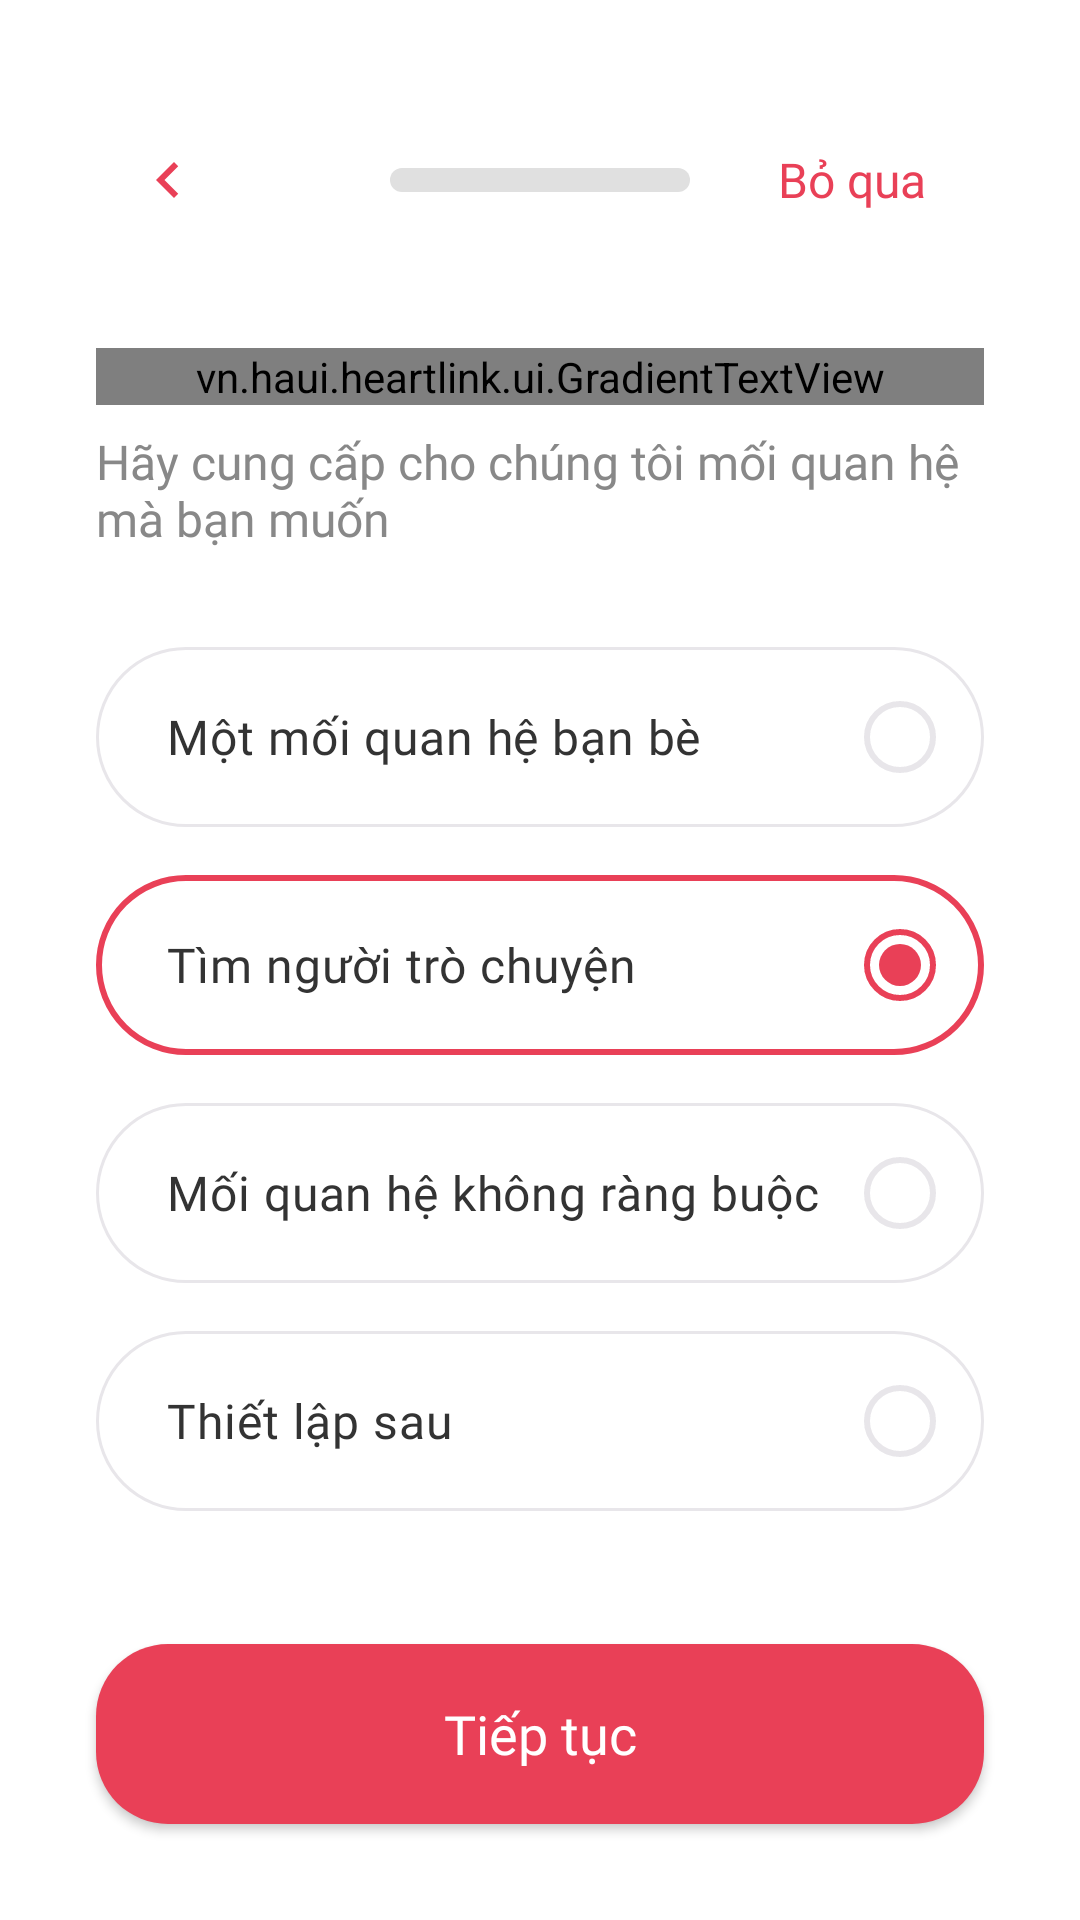

Icons on this 1080w x 1920h Android screen, each with the point to tap as (x,y):
back arrow: (167,180)
